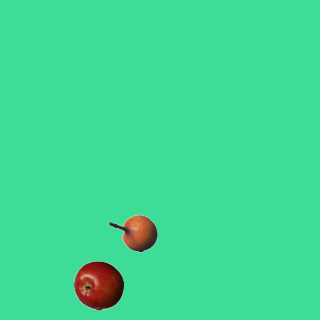Apple Braeburn: (73, 260, 123, 310)
Granadilla: (107, 208, 157, 258)
